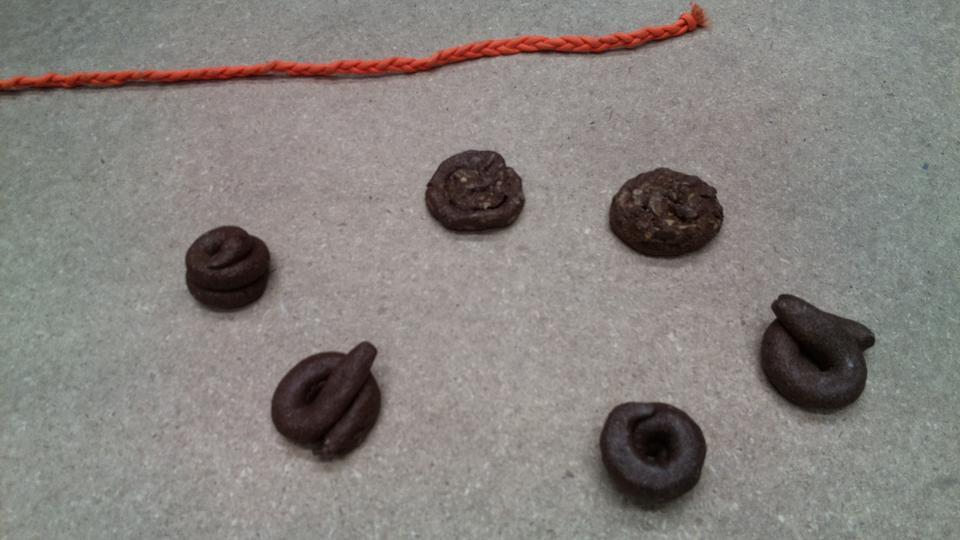poop: (758, 292, 882, 414), (268, 336, 382, 466), (598, 398, 708, 511), (606, 166, 728, 260), (422, 148, 528, 235), (182, 223, 276, 314)
rope: (1, 4, 709, 95)
